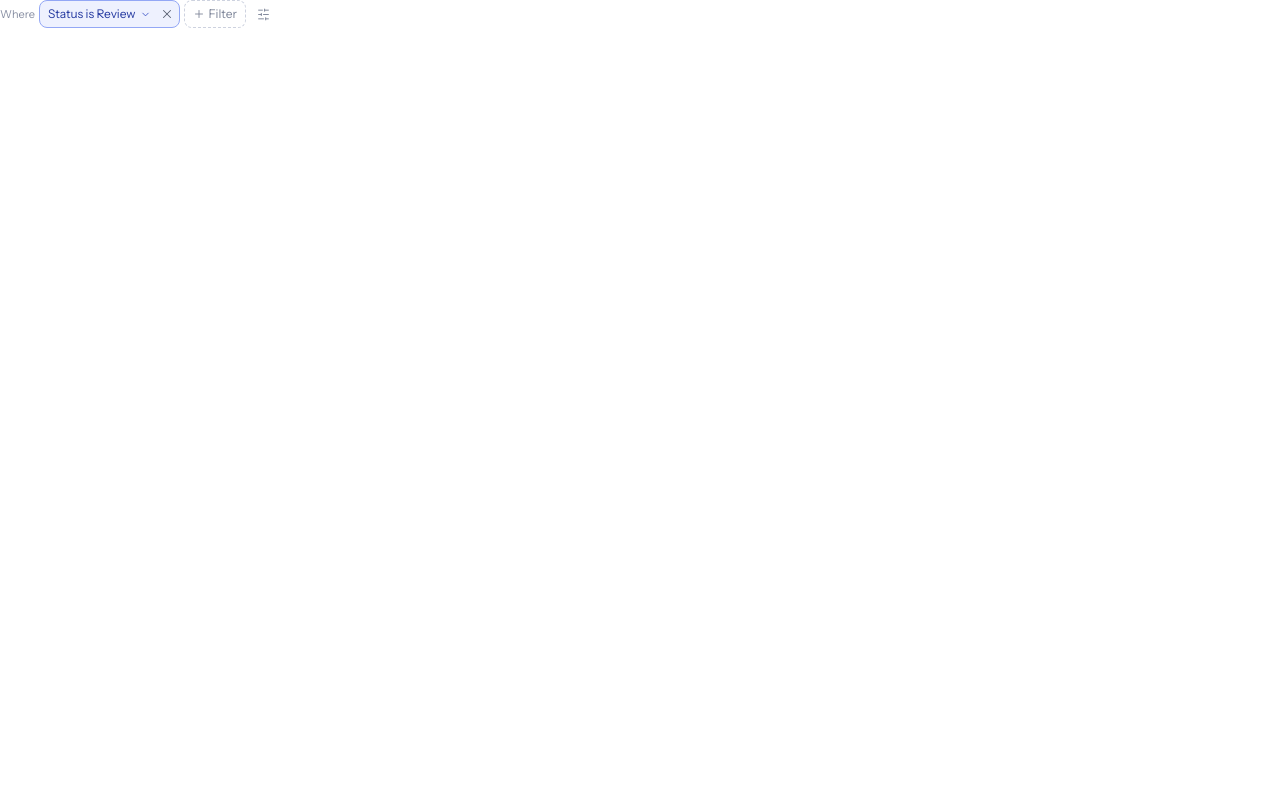
Scenario: a status condition gets the same picker at any depth (M16.29) › renders the identical control at the top level
Click the button with test id "filter-chip-0" at x=97, y=14, box 40,1 -> 154,27
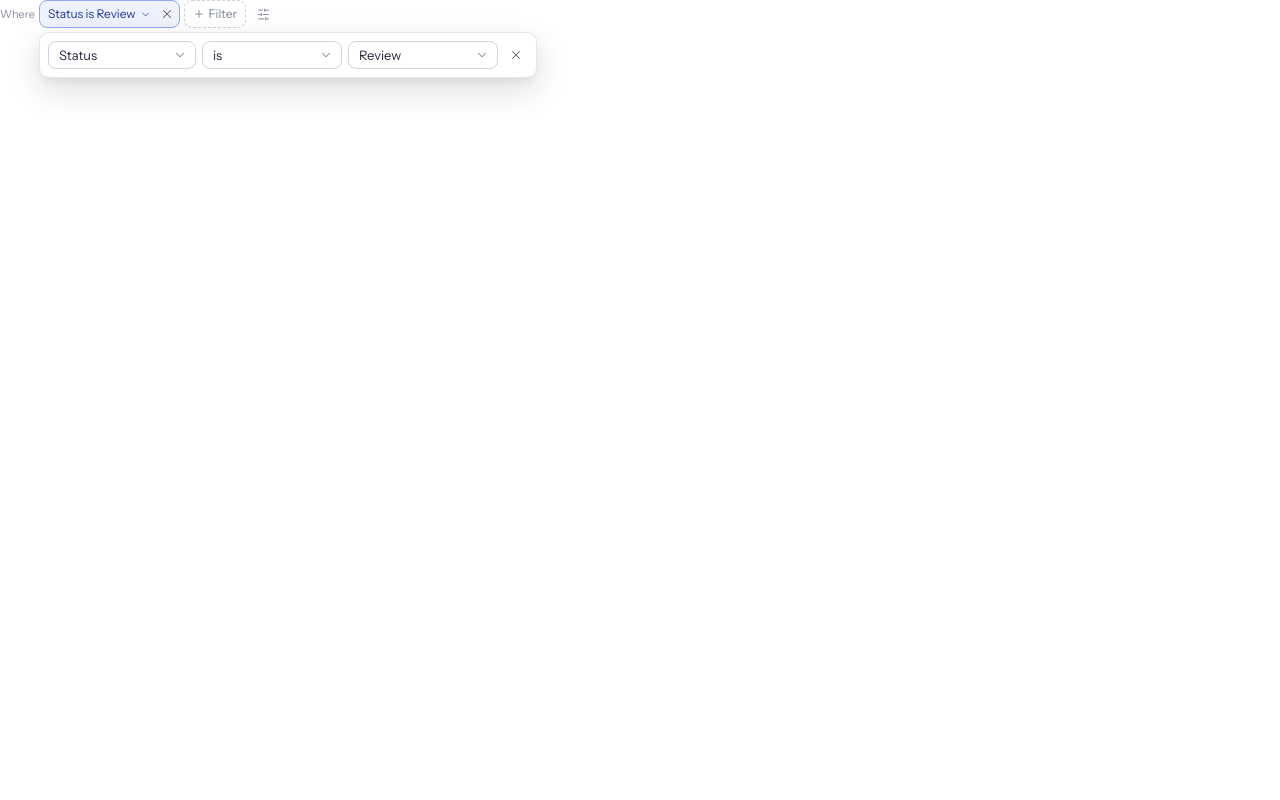
Now the button with aria-label "Filter value" reads "Review", box 348,41 -> 498,69
